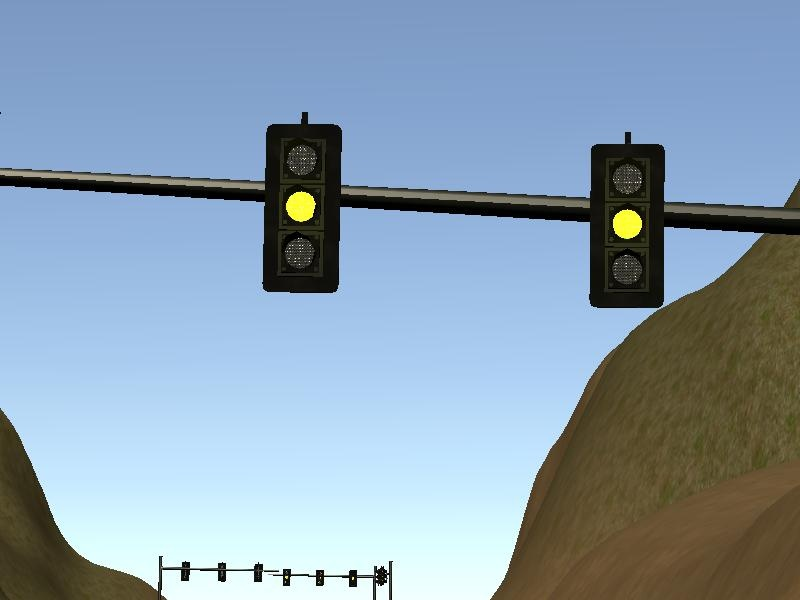yellow: (576, 131, 674, 316), (256, 112, 349, 302)
